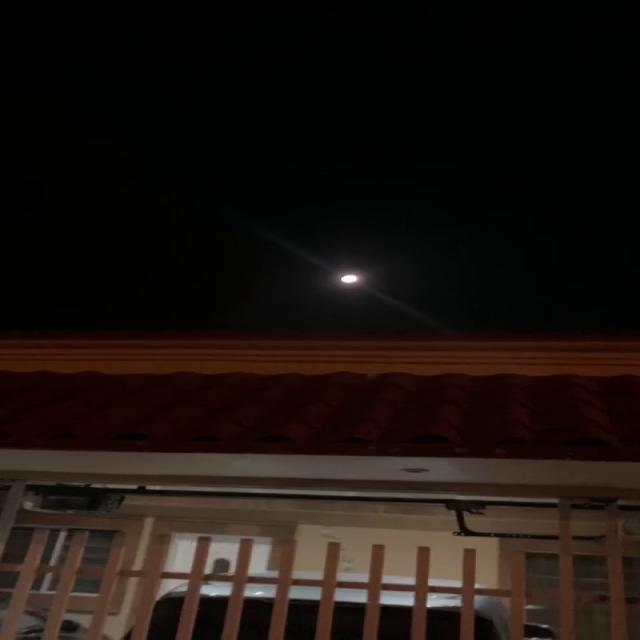moon: (332, 267, 368, 291)
